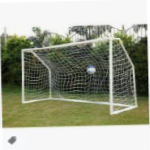goals: (20, 36, 140, 118)
